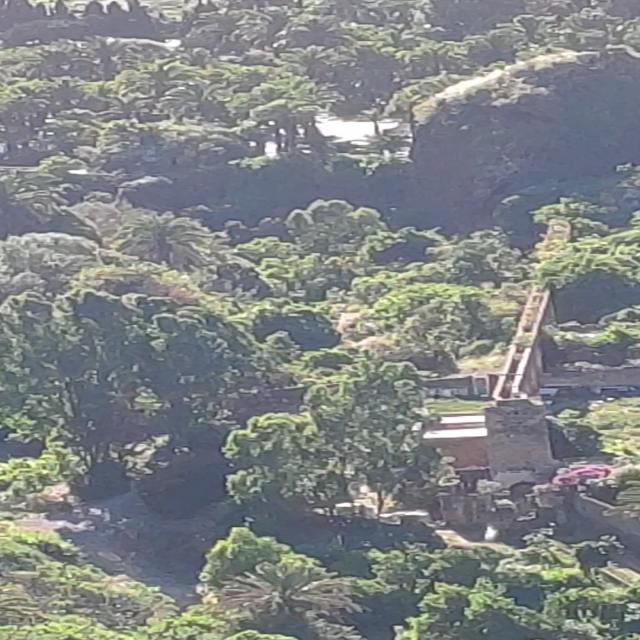Palm-Trees: (208, 560, 364, 630), (112, 214, 215, 268)
